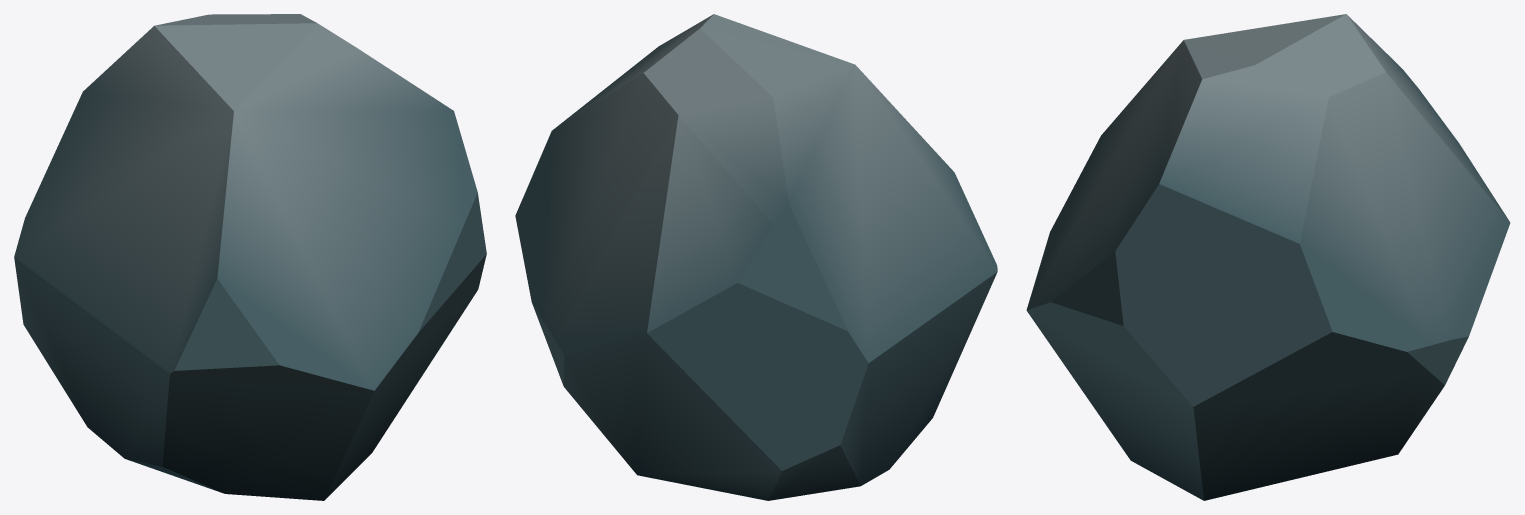
File: Rock 3.fbx
The picture shows the model from 3 angles, left to right: view 1: azimuth 30°, elevation 25°; view 2: azimuth 150°, elevation 25°; view 3: azimuth 270°, elevation 25°; orthographic projection.
Visible parts, largest first — view 1: Rock 3; view 2: Rock 3; view 3: Rock 3.
Part boxes in pixels (bbox=[...]): Rock 3: bbox=[14, 14, 486, 500]; Rock 3: bbox=[515, 14, 997, 500]; Rock 3: bbox=[1026, 14, 1510, 500].
Bounding box in the file's own units: 167 × 176 × 182.
